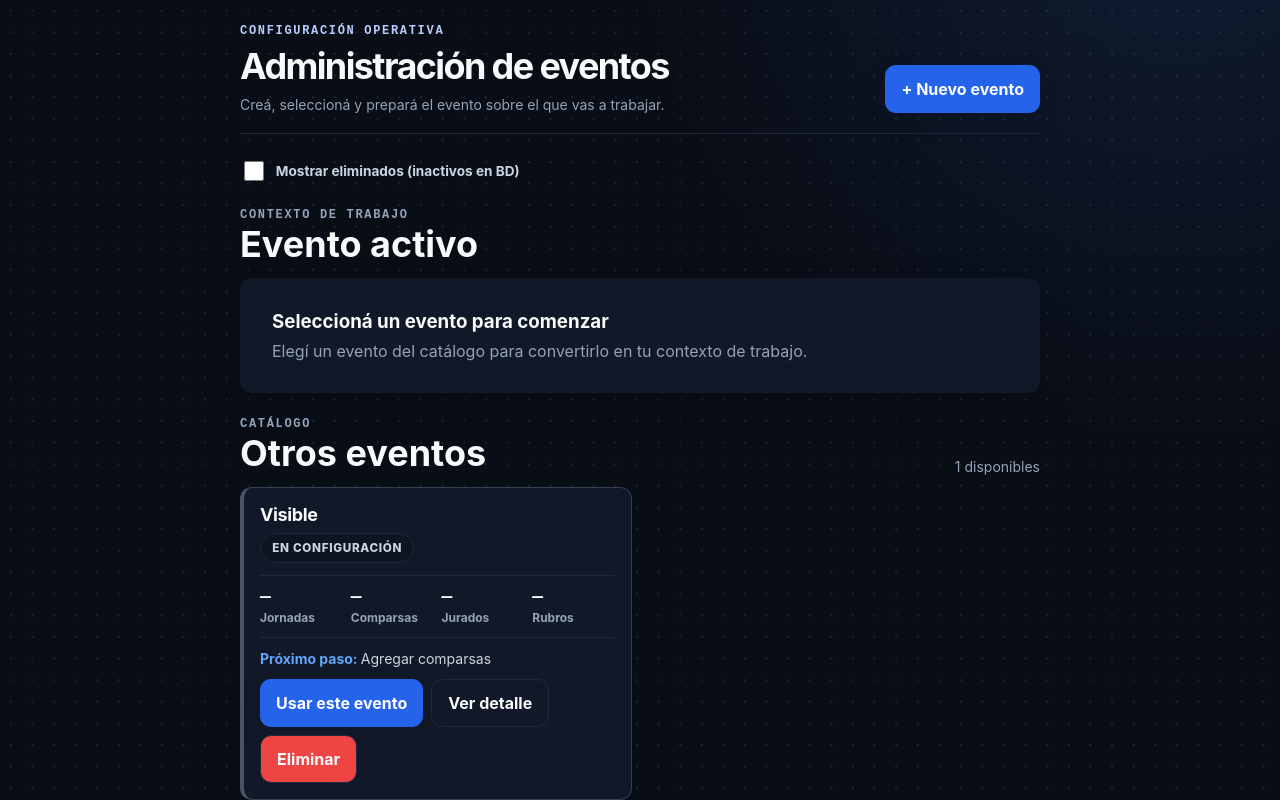
Test: AdminEventsPage › oculta eventos eliminados por defecto y los muestra con el toggle
expect the heading "Visible" is shown: met, box 260,504 -> 318,525
Click the checkbox labelled "Mostrar eliminados (inactivos en BD)" at [254, 171], box 244,161 -> 264,181
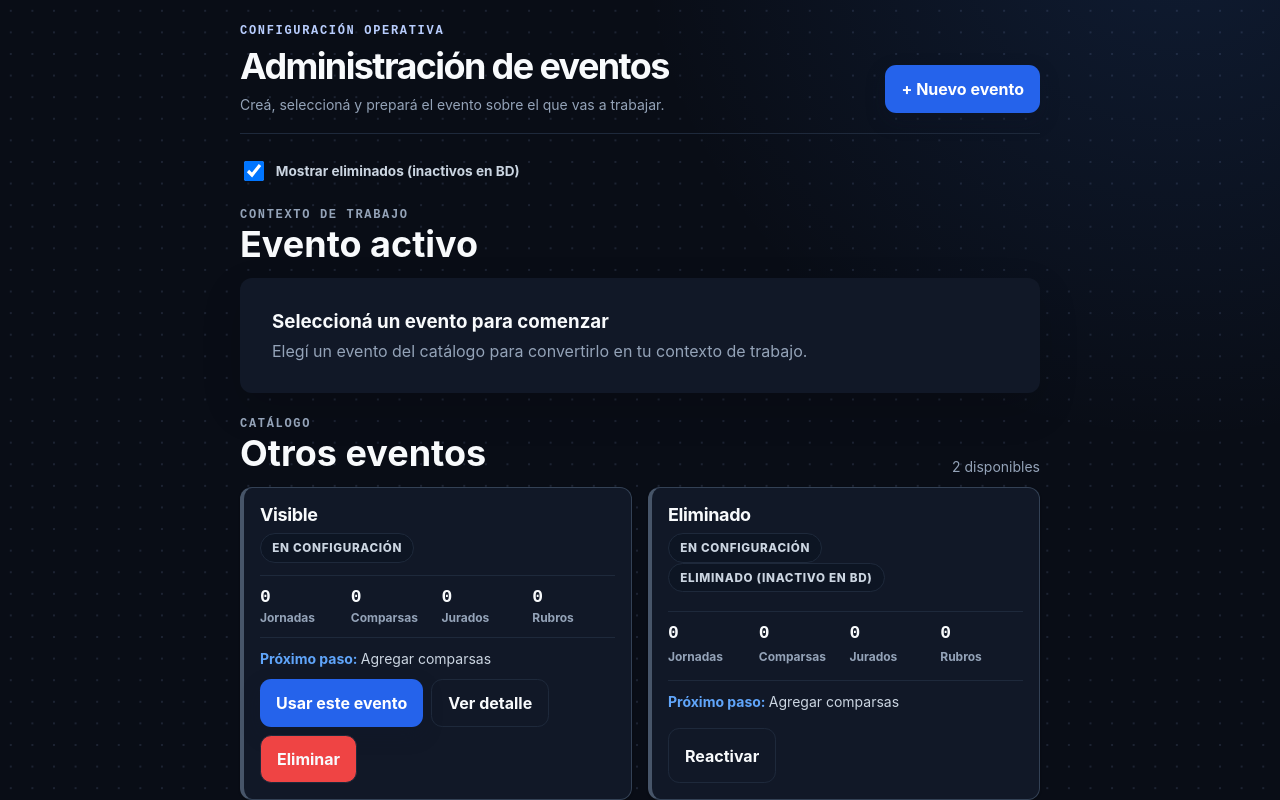
expect the heading "Eliminado" is shown: met, box 668,504 -> 751,525
